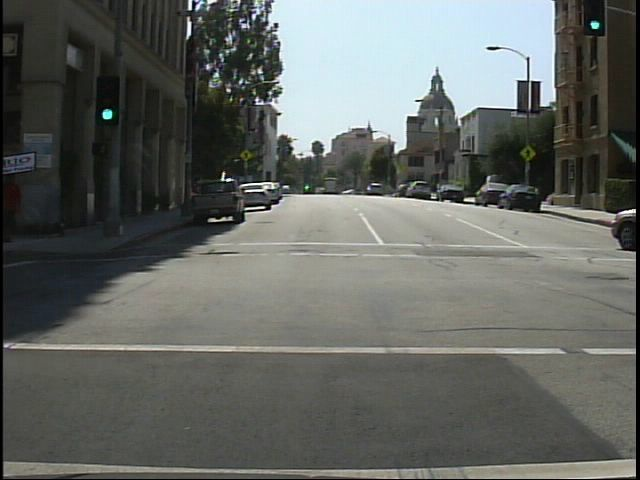person: (1, 160, 26, 245)
